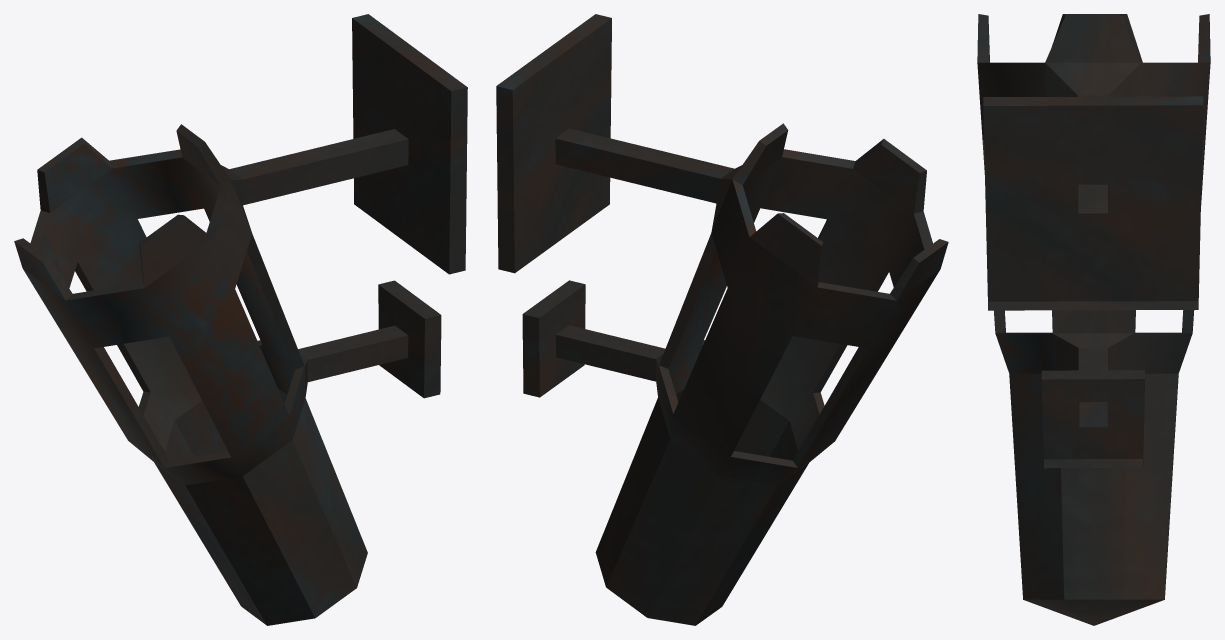
File: torchHolder 1.fbx
3 views of the same model, side by side, from view 1: azimuth 30°, elevation 25°; view 2: azimuth 150°, elevation 25°; view 3: azimuth 270°, elevation 25° (orthographic). The views are drawn at different scales.
Visible parts, largest first — view 1: torchStand; view 2: torchStand; view 3: torchStand.
Part boxes in pixels (x1=…): torchStand: x1=14, y1=14, x2=467, y2=625; torchStand: x1=496, y1=14, x2=948, y2=625; torchStand: x1=977, y1=14, x2=1210, y2=625.
Size of the model in its own units: 24.04 by 31.09 by 11.27.
